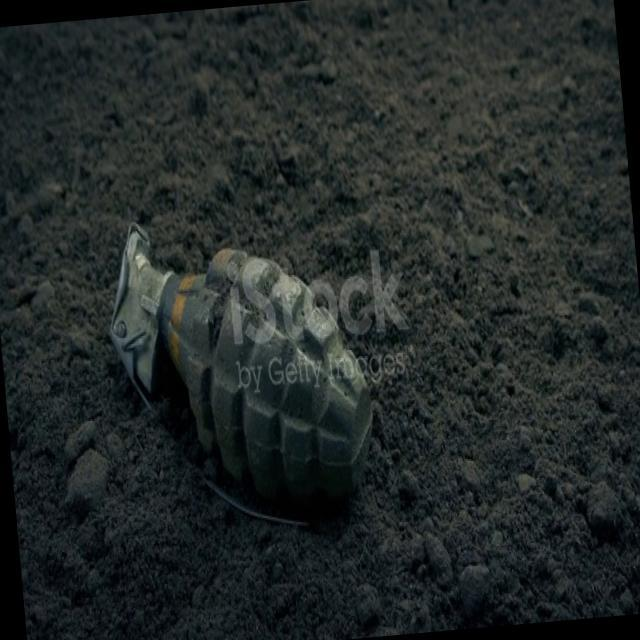grenade: (100, 196, 386, 543)
